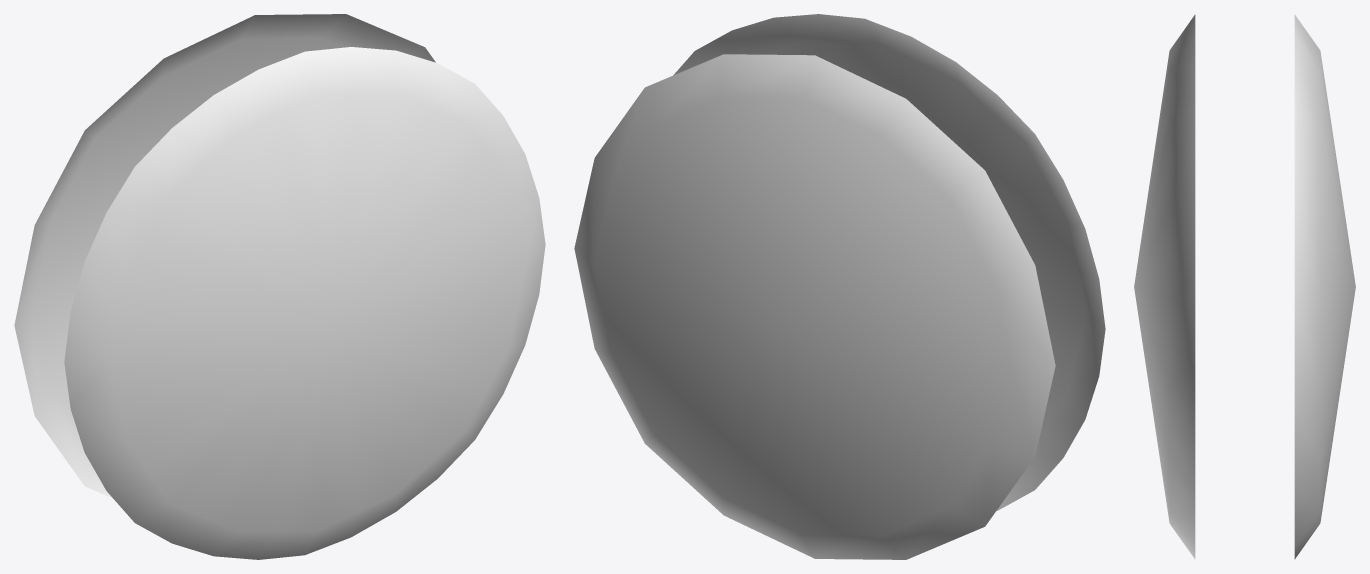
File: Ob_RailSwitchGlass.fbx
The picture shows the model from 3 angles, left to right: view 1: azimuth 30°, elevation 25°; view 2: azimuth 150°, elevation 25°; view 3: azimuth 270°, elevation 25°; orthographic projection.
Parts seen in each view (by area): view 1: Ob_RailSwitchGlass; view 2: Ob_RailSwitchGlass; view 3: Ob_RailSwitchGlass.
Boxes of the visible parts, left/top/right/bottom form: Ob_RailSwitchGlass: left=14, top=14, right=545, bottom=559; Ob_RailSwitchGlass: left=574, top=14, right=1105, bottom=559; Ob_RailSwitchGlass: left=1134, top=14, right=1355, bottom=559.
Bounding box in the file's own units: 167 × 167 × 67.2.
